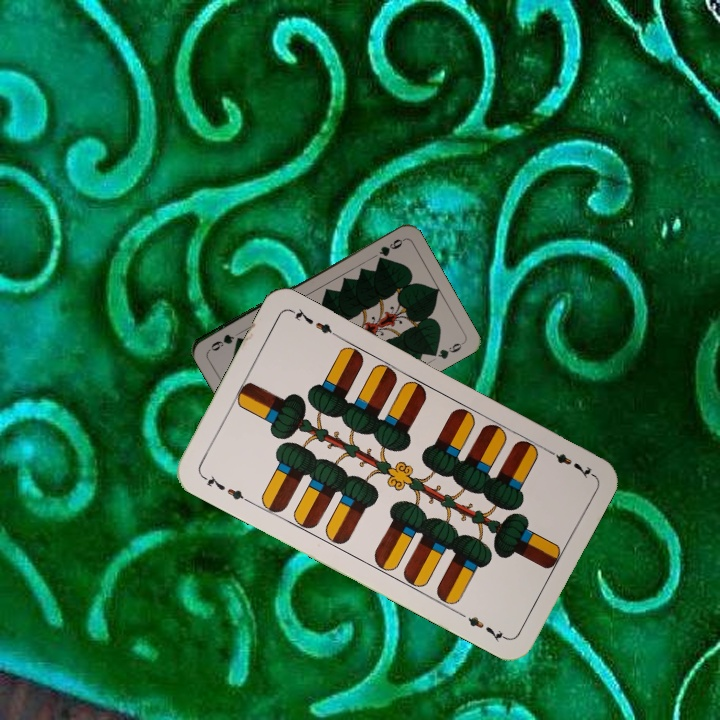E7: (541, 444, 596, 480), (198, 471, 252, 506)
G9: (375, 235, 407, 259)
